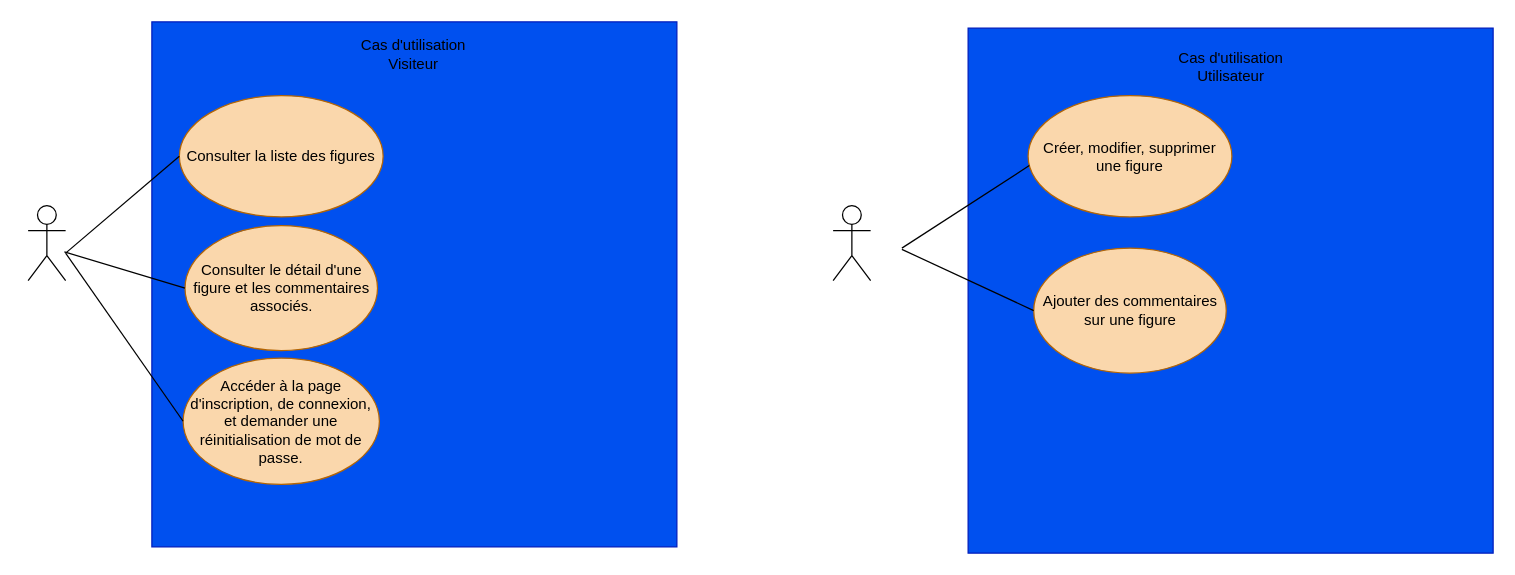
The diagram is 1515 pixels wide and 575 high, and some of its shapes have lost their labels. Each missing label, with the box of its shape:
Utilisateur: (832, 204, 871, 281)
Visiteur: (27, 204, 66, 281)
